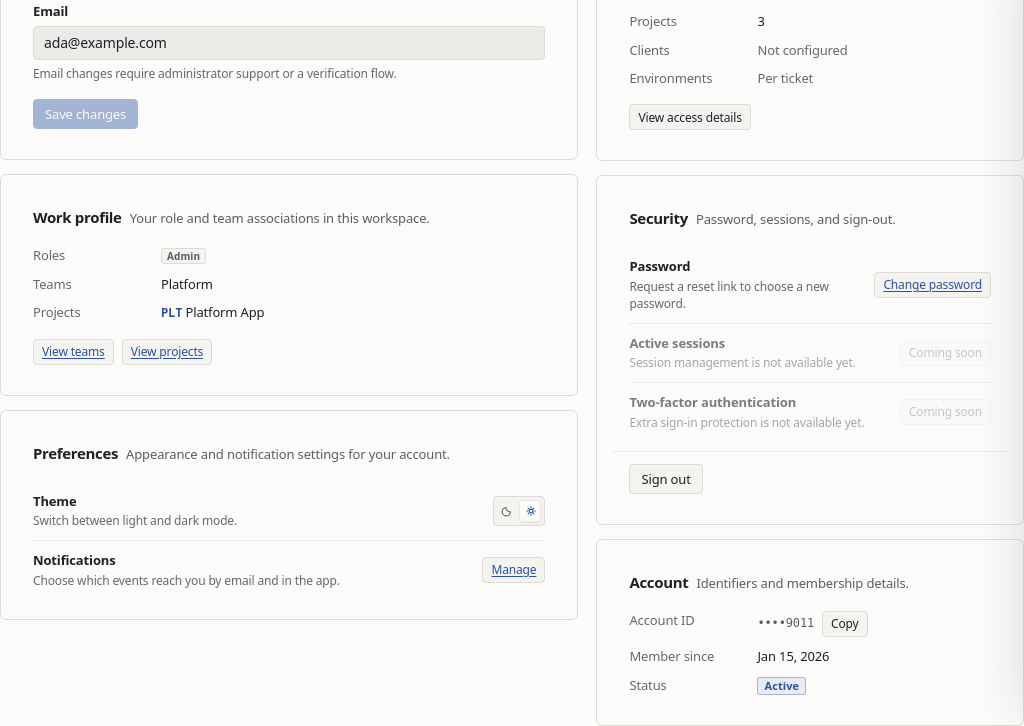
Scenario: ProfilePage › copies the masked account id
(page scrolled)
Click the button with aria-label "copy full account id": (845, 624) [822,611,868,637]
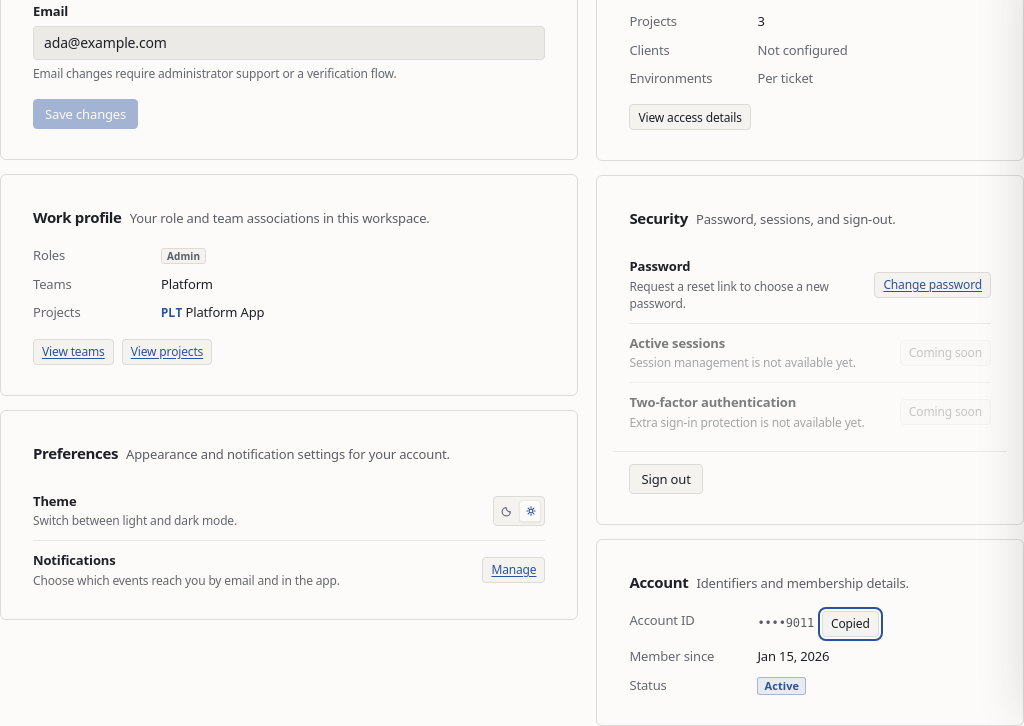
expect the button with aria-label "copy full account id" reads "Copied": met, box [822,611,879,637]
